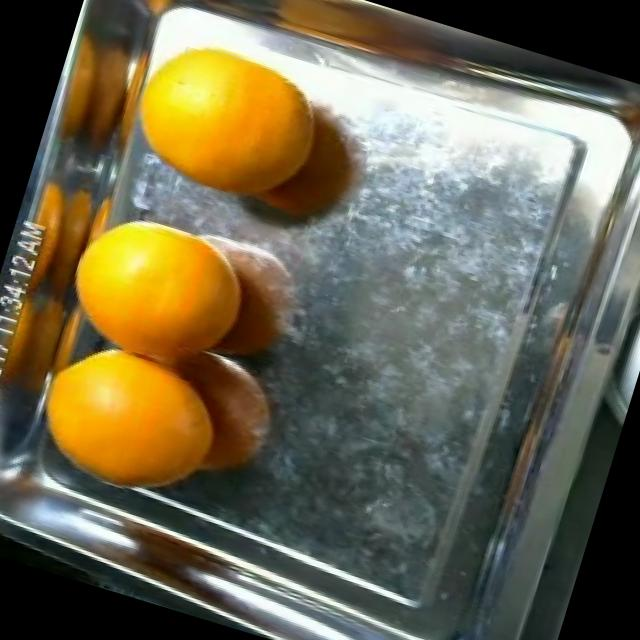Fruit: (105, 12, 359, 237), (36, 190, 286, 400)
